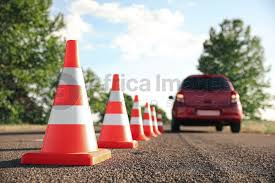car: (172, 74, 241, 131)
cone: (20, 39, 113, 166), (96, 73, 139, 150), (129, 95, 148, 142), (143, 102, 156, 139)
